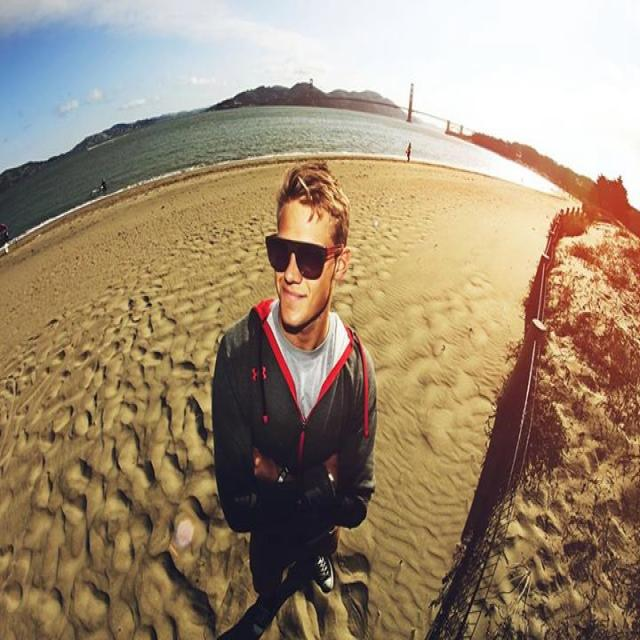adult: (214, 162, 376, 633)
